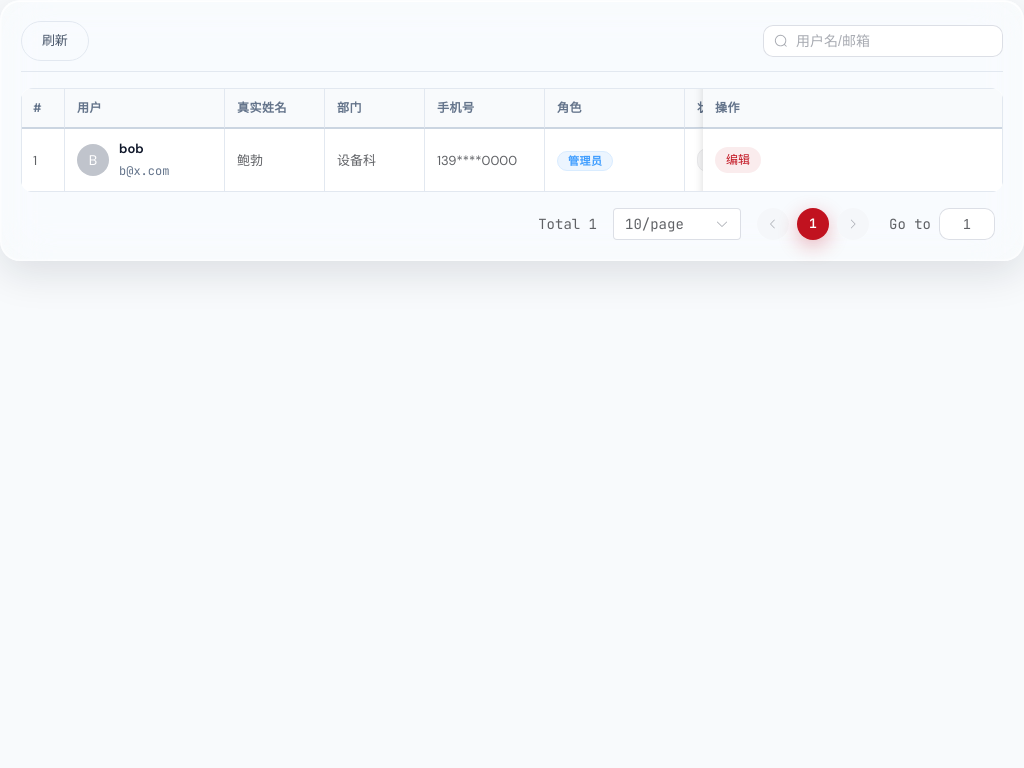
UserView 手机号脱敏列与按需揭示（step-up + 脏判定） › 空口令不发请求：确认按钮禁用，点击不消耗 step-up 配额
Click the button with class "glass-btn--link": (738, 160) [715,147,761,173]
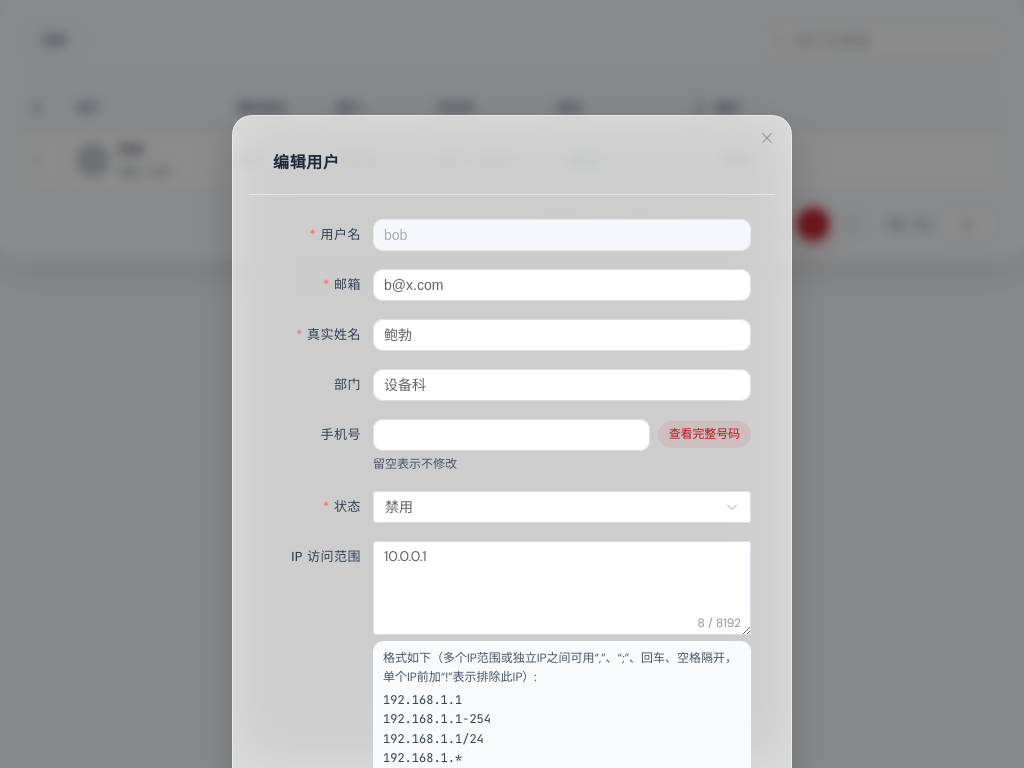
Click the button "查看完整号码": (704, 435) [658,421,751,448]
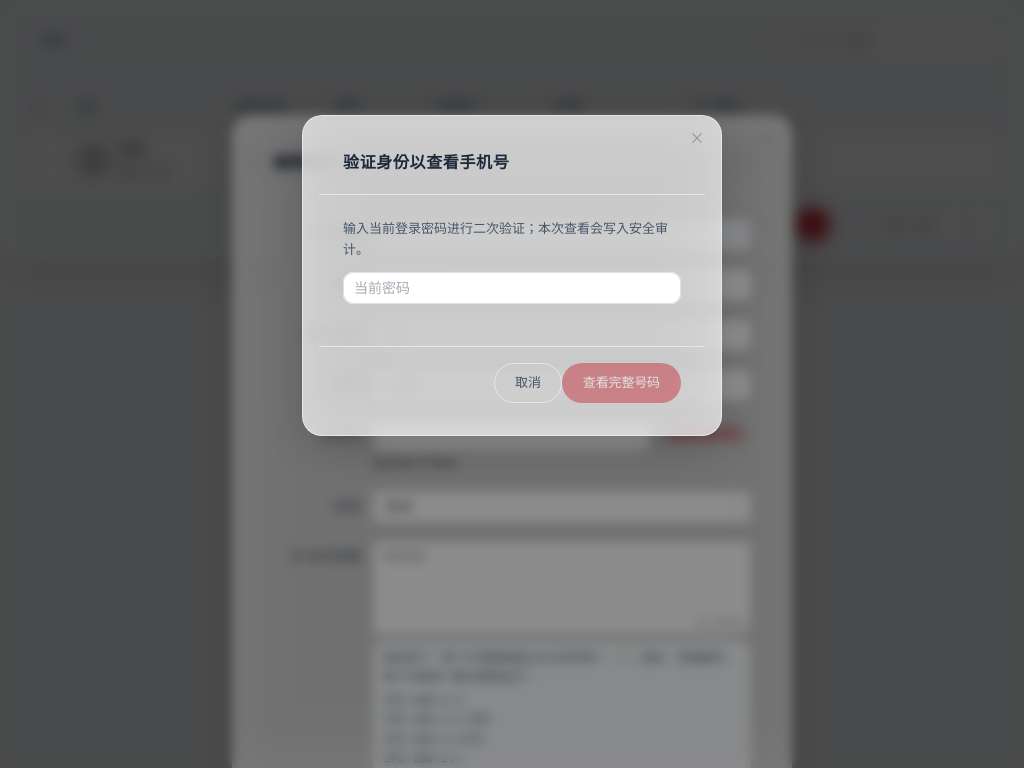
Expected: the element showing "验证身份以查看手机号 输入当前登录密码进行二次验证；本次查看会写入安全审计。 取消 查看完整号码" is shown, [302,115,722,436]
Expected: the button with class "glass-btn" showing "查看完整号码" is disabled, [562,363,681,403]
